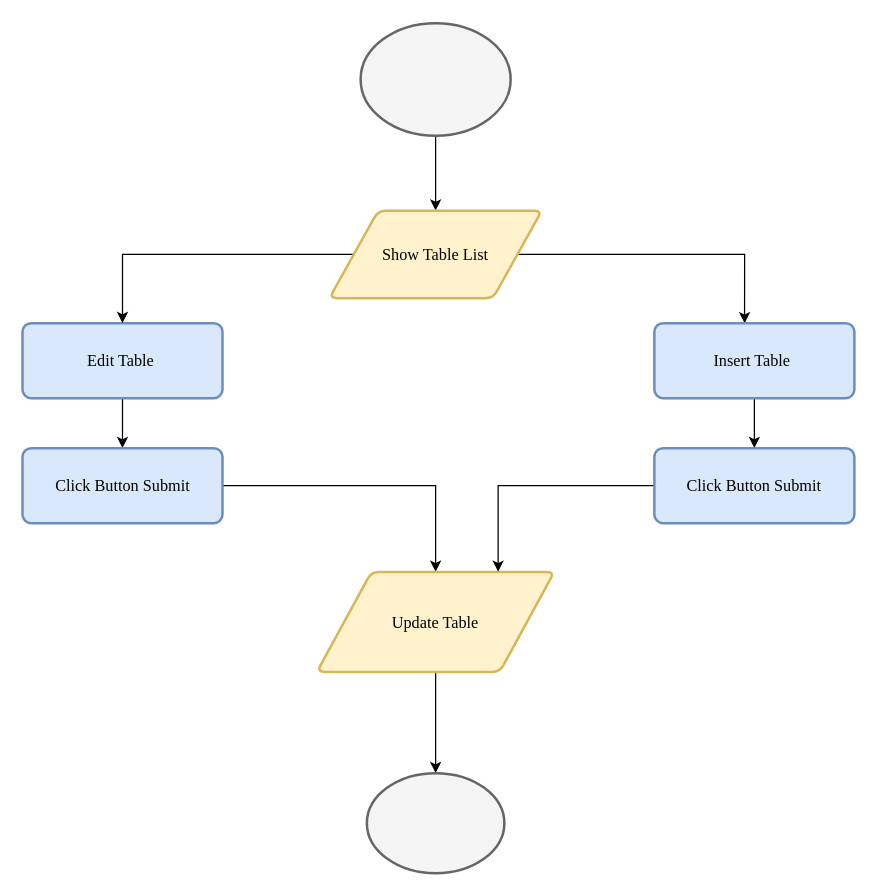
This 878x895 diagram has some shape labels left out. The shapes that lost their labels are listed below. From the top down, each one's centre as x and y in pixels, then its label:
At [435,78]: "Start".
At [435,822]: "End".
